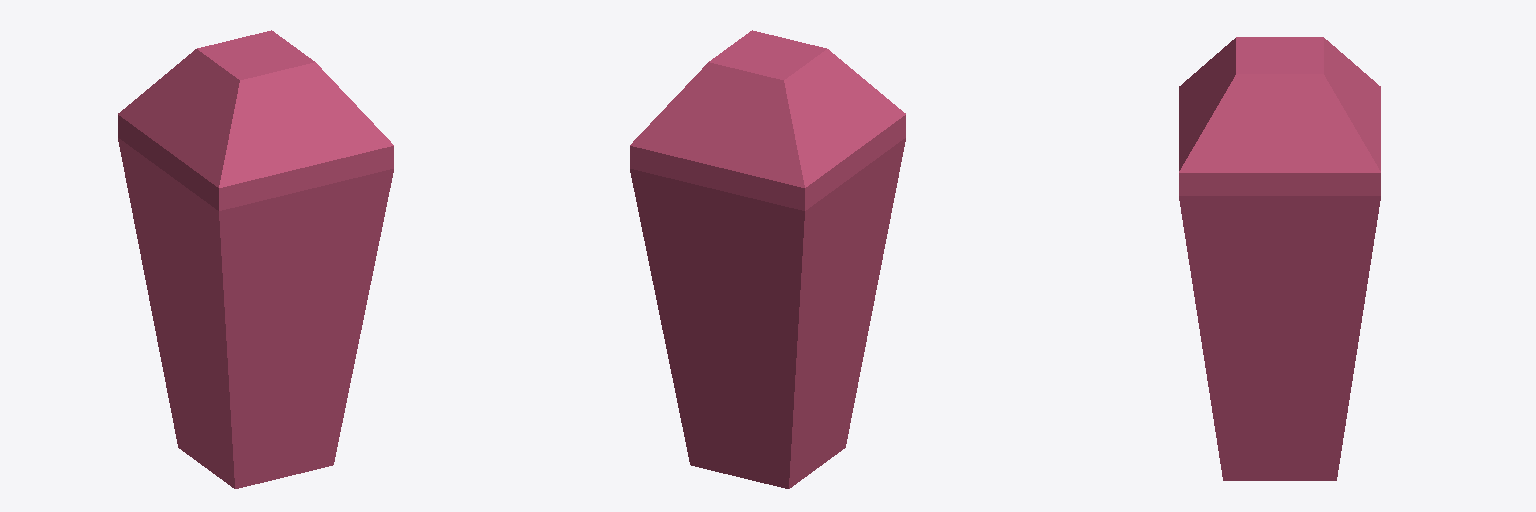
The model's file is CrystalSingle.obj.
3 views of the same model, side by side, from view 1: azimuth 30°, elevation 25°; view 2: azimuth 150°, elevation 25°; view 3: azimuth 270°, elevation 25° (orthographic).
Visible parts, largest first — view 1: detail_crystal; view 2: detail_crystal; view 3: detail_crystal.
Boxes of the visible parts, box(x1,y1,x2,y2) form: detail_crystal: box(118, 30, 393, 488); detail_crystal: box(630, 30, 905, 488); detail_crystal: box(1179, 37, 1380, 480).
Bounding box in the file's own units: 0.1602 × 0.35 × 0.1602.